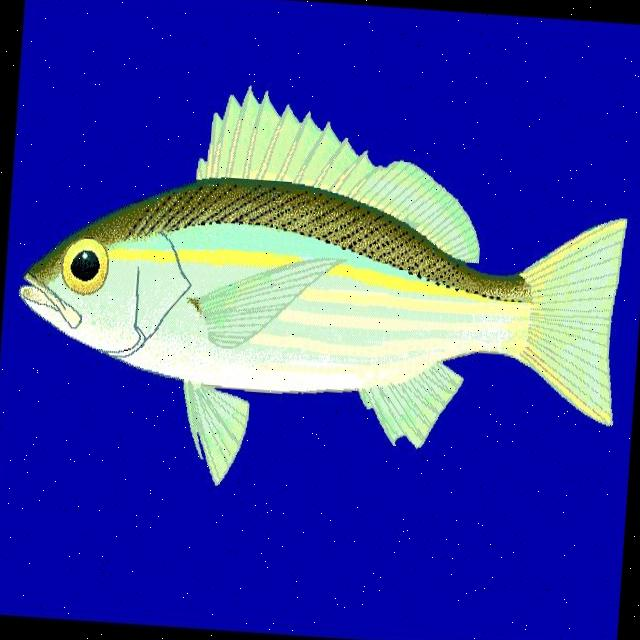ikan: (4, 69, 636, 512)
